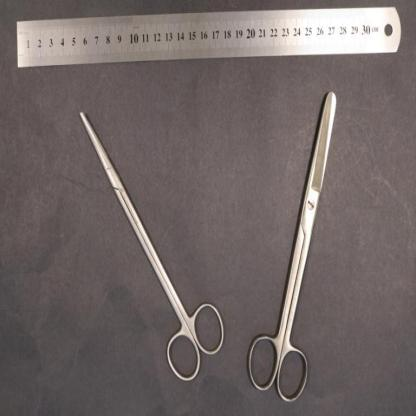7 Metzenbaum Scissors: (78, 110, 226, 386)
Dressing Scissors: (244, 90, 338, 406)
